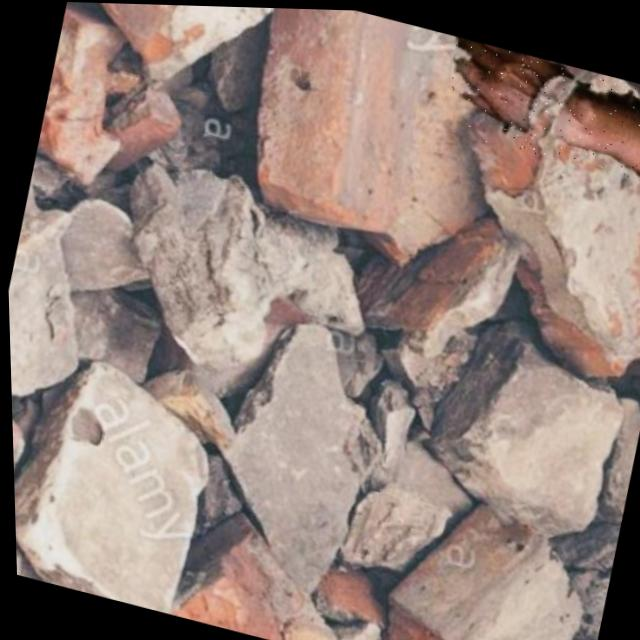Person in Rubble: (435, 33, 640, 189)
